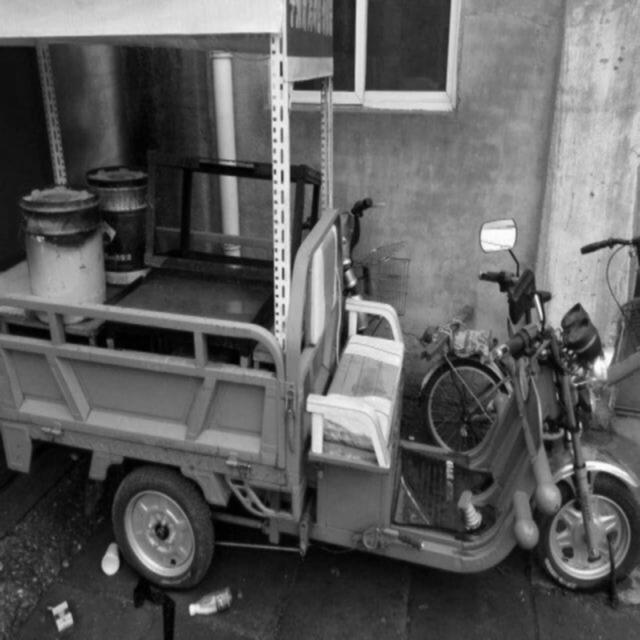bicycle: (418, 231, 639, 449)
tricycle: (3, 206, 639, 602)
